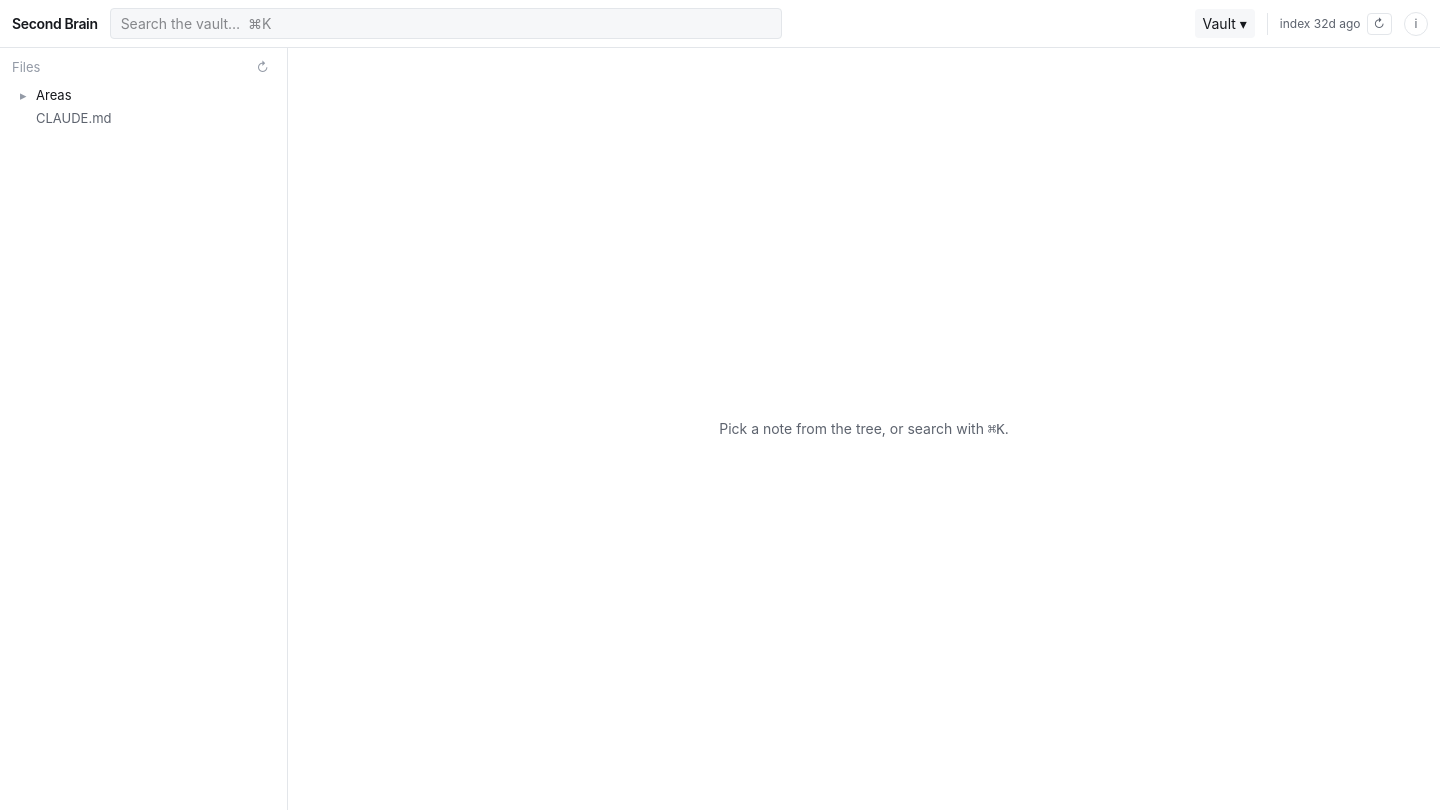
App › refetches the tree when the refresh button rescans the vault
This screenshot has width=1440, height=810.
Expected: the text "Areas" is shown, [36,86,72,105]
Expected: the text "Fresh" is not shown
Click the button named "Refresh file tree" at (263, 68), box [251,56,275,80]
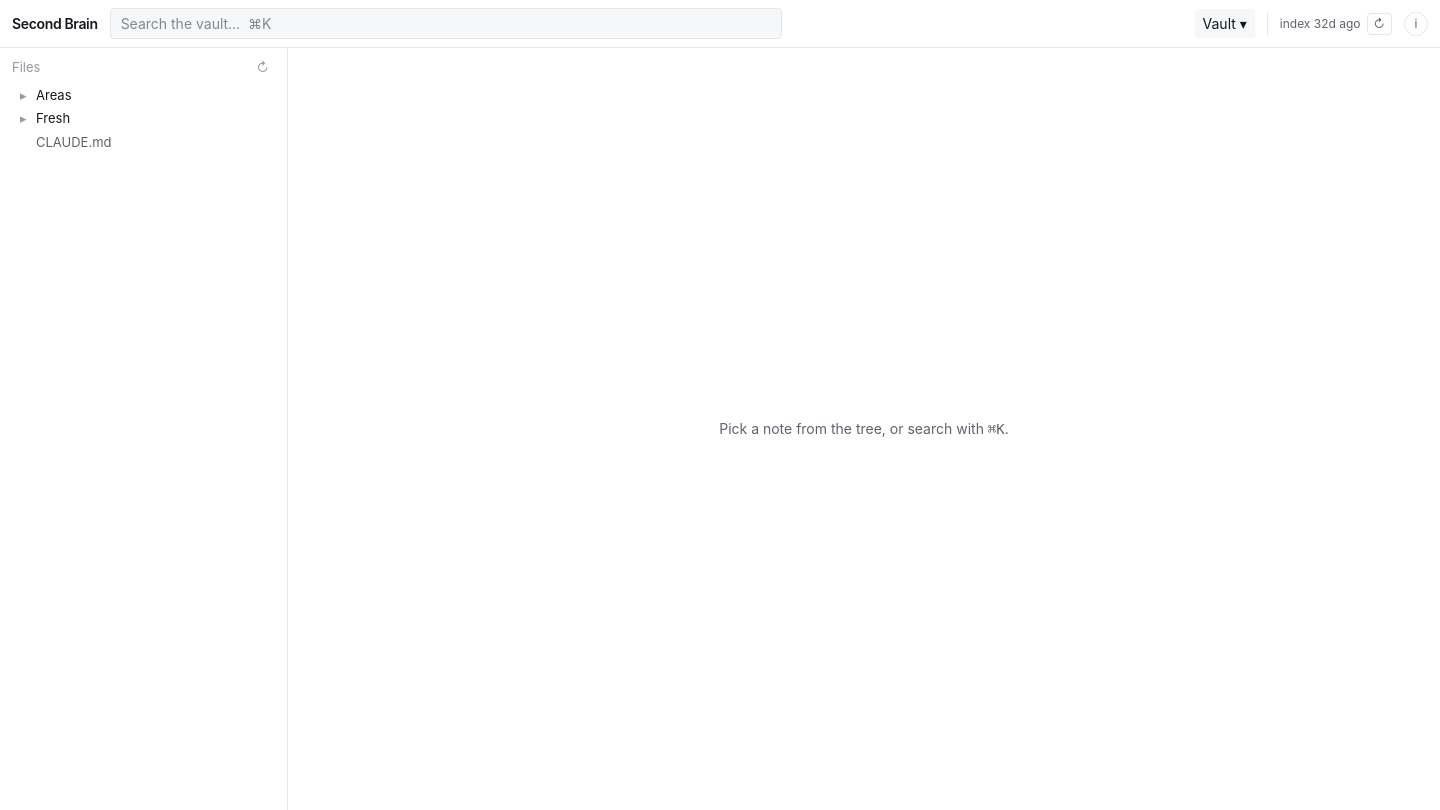
Expected: the text "Fresh" is shown, [36,109,70,128]
